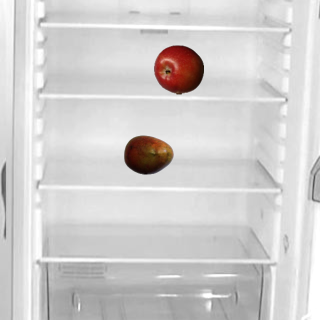Apple Braeburn: (153, 44, 203, 94)
Mango Red: (123, 129, 173, 179)
